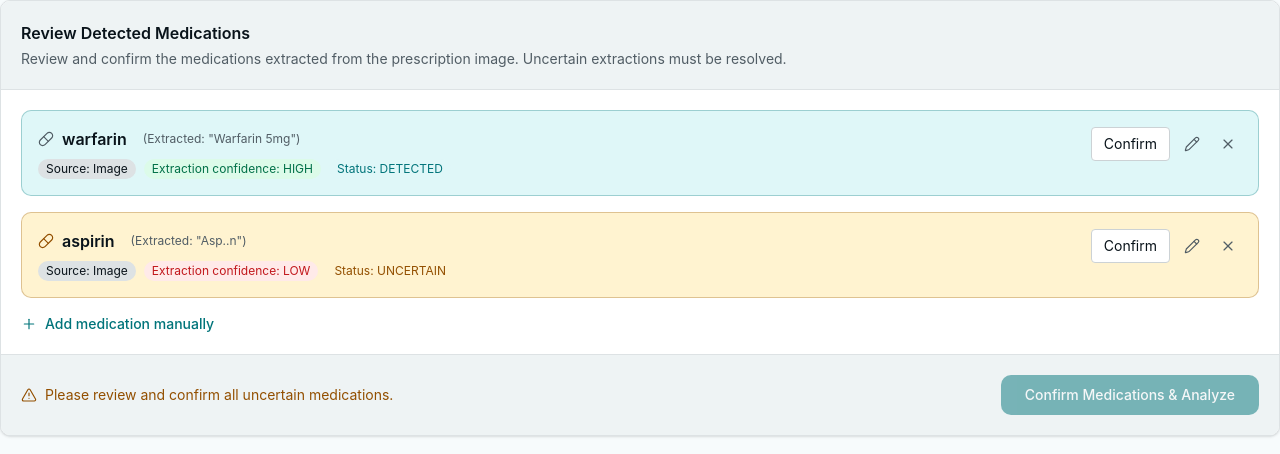
Test: MedicationConfirmationPanel › TEST 3: High-confidence candidate can be confirmed
# First confirm button is for warfarin
Click the button "Confirm" in the row of "Warfarin 5mg" at (1130, 144), box [1091,127,1170,161]
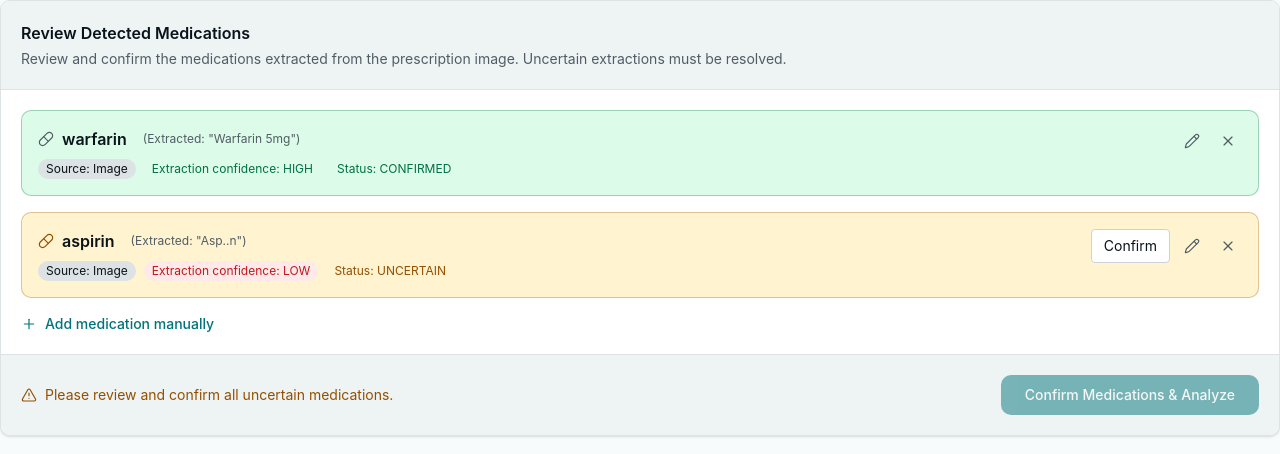
Check: the text "Status: CONFIRMED" is shown, box [329,159,459,179]
